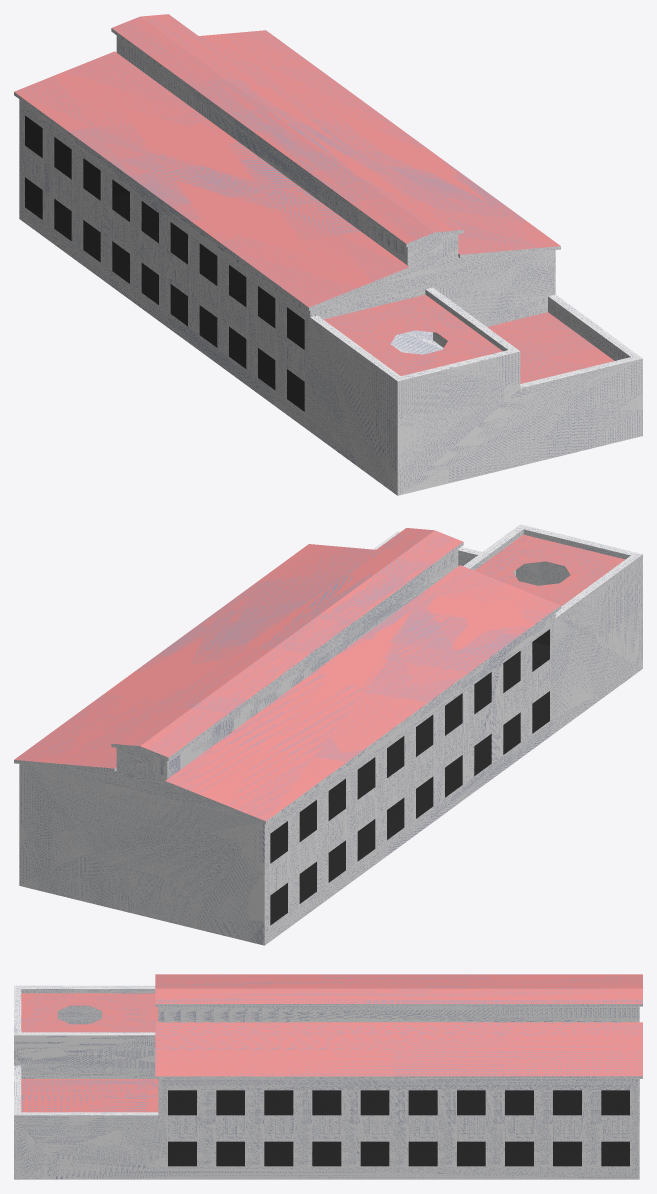
Rendered from FactoryPink.dae.
The picture shows the model from 3 angles, top to bottom: view 1: azimuth 30°, elevation 25°; view 2: azimuth 150°, elevation 25°; view 3: azimuth 270°, elevation 25°; orthographic projection. The views are drawn at different scales.
Parts seen in each view (by area): view 1: SketchUp (×6); view 2: SketchUp (×5); view 3: SketchUp (×6), Component_1 (×20).
Boxes of the visible parts, box(x1,y1,x2,y2) form: SketchUp (×6): box(14, 14, 642, 495); SketchUp (×5): box(14, 524, 642, 945); SketchUp (×6): box(14, 974, 642, 1179); Component_1 (×20): box(168, 1090, 629, 1166).
Size of the model in its own units: 720 by 1882 by 467.
